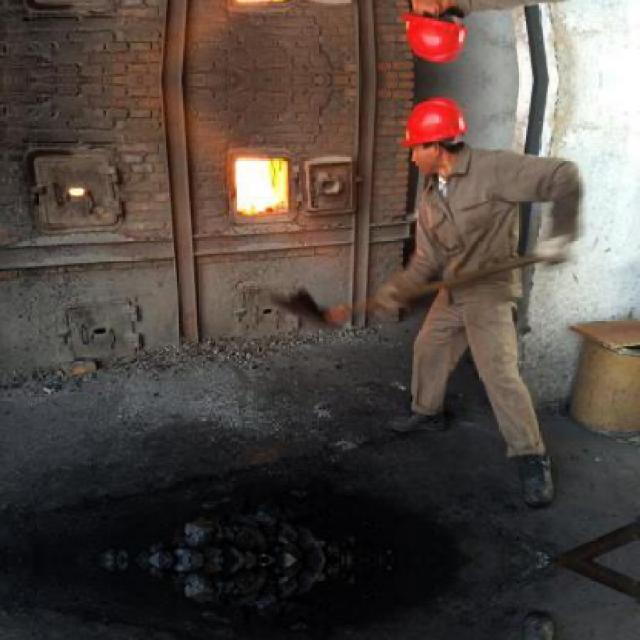helmet: (398, 94, 474, 181), (398, 0, 476, 68)
